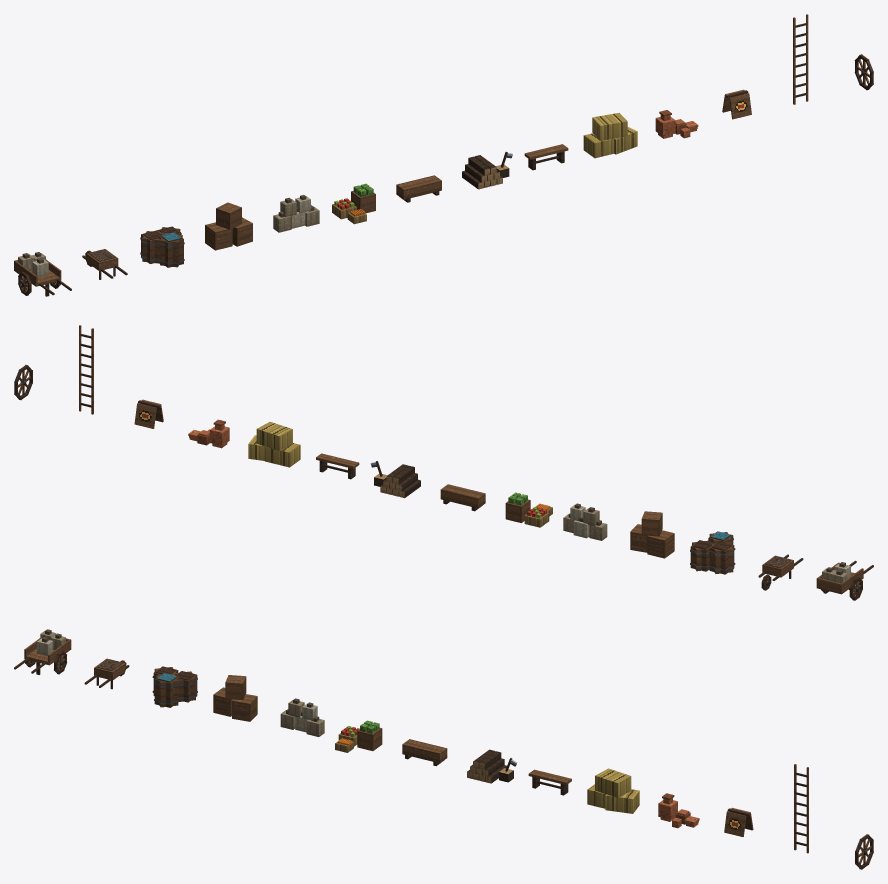
Rendered from props.gltf.
3 renders of one model, top to bottom at view 1: azimuth 30°, elevation 25°; view 2: azimuth 150°, elevation 25°; view 3: azimuth 330°, elevation 25°, orthographic.
Visible parts, largest first — view 1: barrels, woodpile, hay_bale3, trough_box, crates_crate1, crates_crate3, hay_bale1; view 2: barrels, woodpile, hay_bale3, trough_box, hay_bale1, crates_crate1; view 3: barrels, woodpile, hay_bale3, trough_box, hay_bale2, crates_crate2, crates_crate3.
Part boxes in pixels (bbox=[...]): barrels: bbox=[140, 226, 184, 267]; woodpile: bbox=[462, 155, 502, 189]; hay_bale3: bbox=[592, 112, 627, 140]; trough_box: bbox=[396, 175, 441, 199]; crates_crate1: bbox=[205, 222, 232, 250]; crates_crate3: bbox=[216, 202, 241, 229]; hay_bale1: bbox=[583, 133, 613, 158]; barrels: bbox=[690, 531, 735, 574]; woodpile: bbox=[380, 464, 420, 498]; hay_bale3: bbox=[256, 421, 292, 450]; trough_box: bbox=[440, 484, 485, 508]; hay_bale1: bbox=[264, 443, 300, 467]; crates_crate1: bbox=[647, 530, 674, 558]; barrels: bbox=[152, 666, 197, 707]; woodpile: bbox=[467, 749, 506, 783]; hay_bale3: bbox=[595, 768, 631, 797]; trough_box: bbox=[402, 739, 447, 763]; hay_bale2: bbox=[605, 789, 639, 813]; crates_crate2: bbox=[232, 694, 257, 721]; crates_crate3: bbox=[225, 675, 246, 699].
Size of the model in its own units: 33.22 by 3.27 by 2.7.
1 material, 1 textured.
